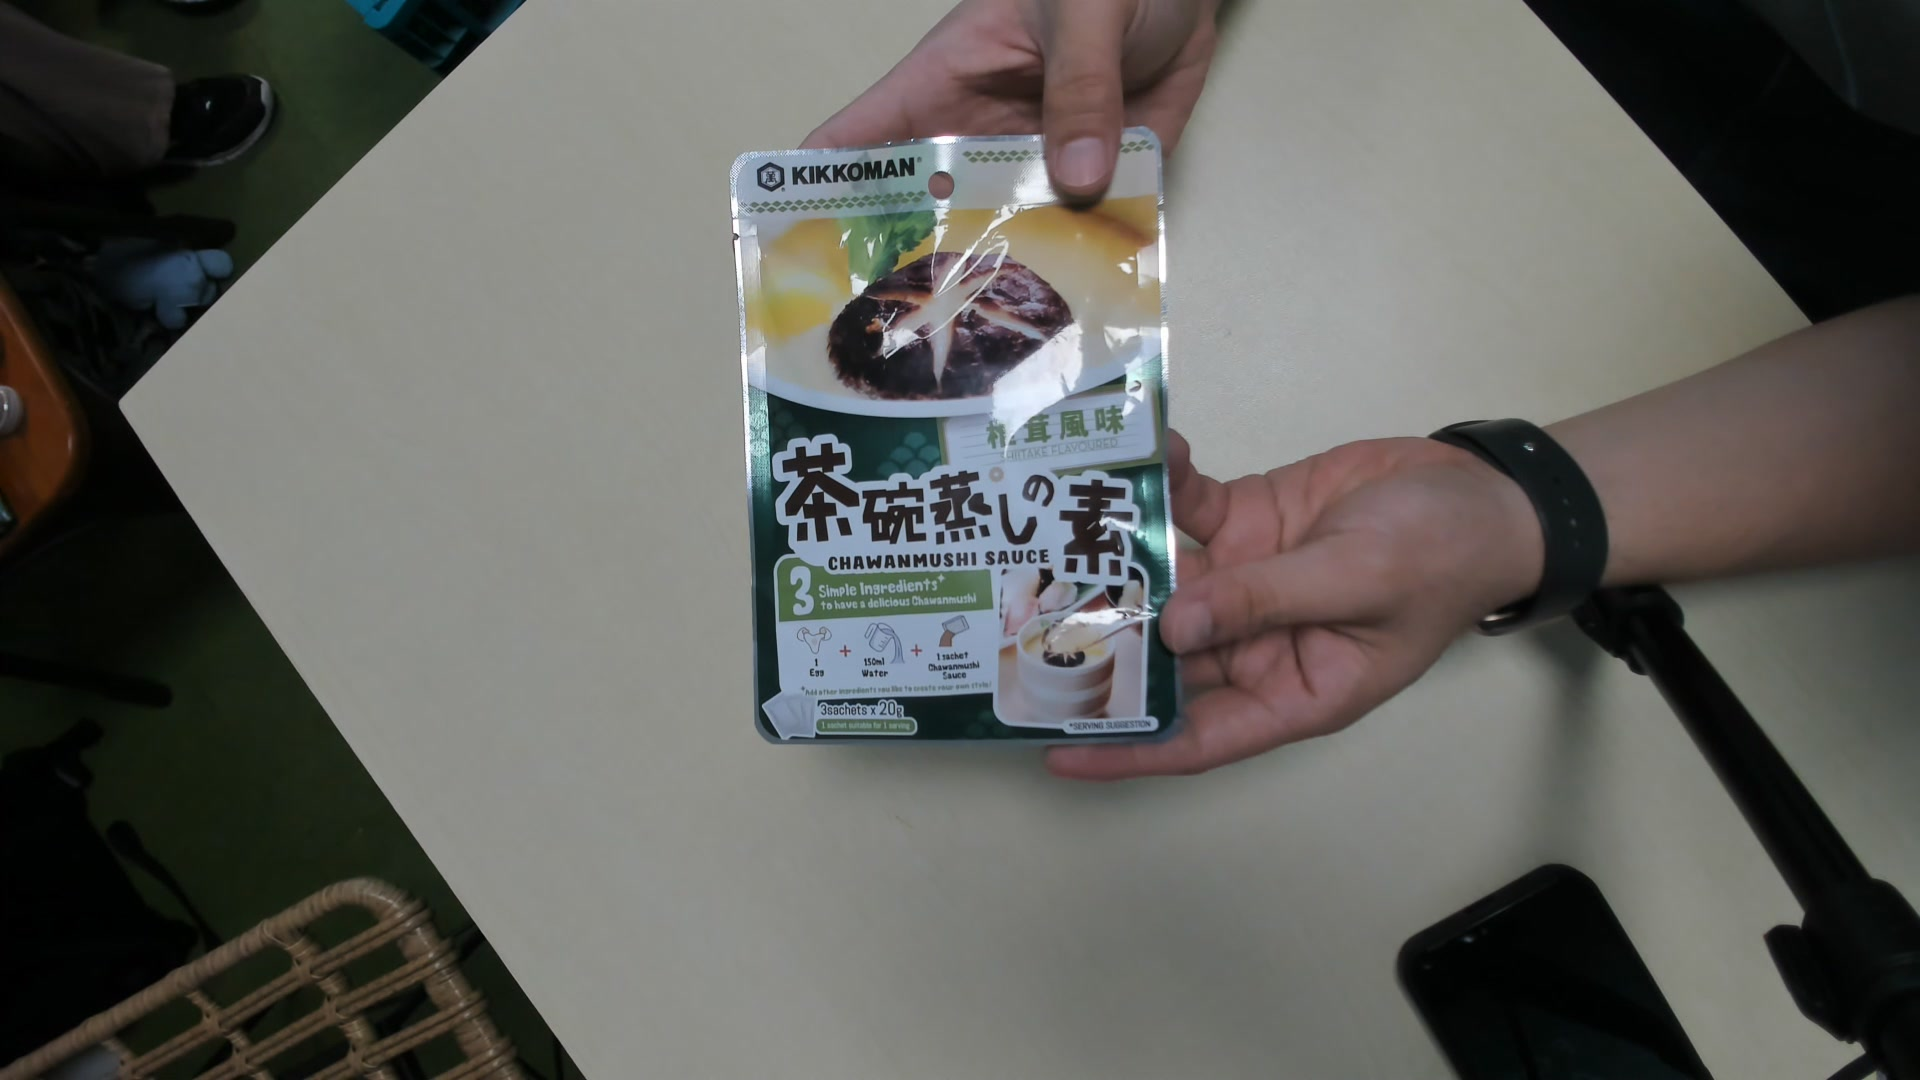OtherSauceDressing_0-99g_NonHalal_NonHealthy: (728, 124, 1183, 752)
